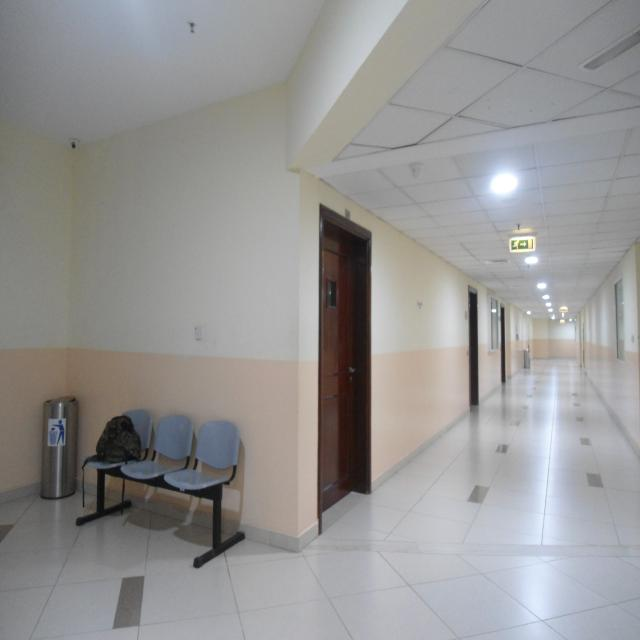bagpack: (93, 398, 144, 474)
bench: (75, 399, 251, 568)
cctv: (66, 134, 82, 154)
door: (314, 206, 376, 509), (467, 283, 482, 404)
dustbin: (37, 391, 82, 499)
exitLight: (499, 225, 541, 254), (557, 301, 568, 315)
